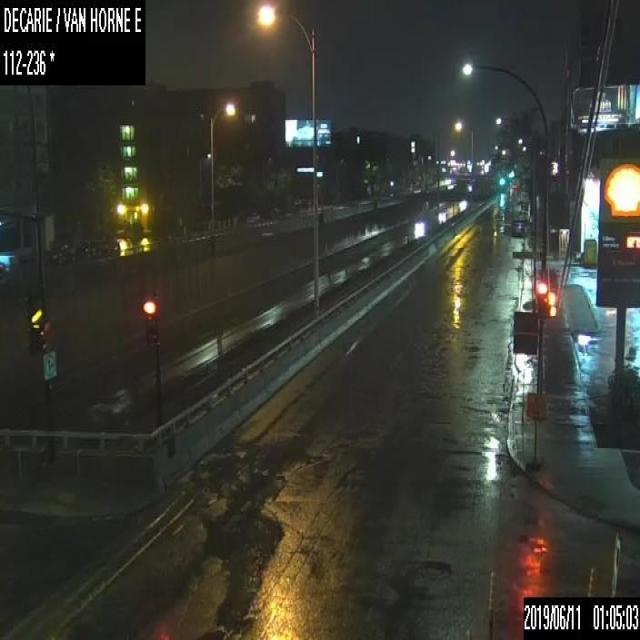construction: (526, 391, 544, 469), (486, 565, 494, 639), (586, 563, 596, 596), (463, 625, 472, 639)
vehicle: (85, 386, 132, 420), (510, 218, 524, 236)
